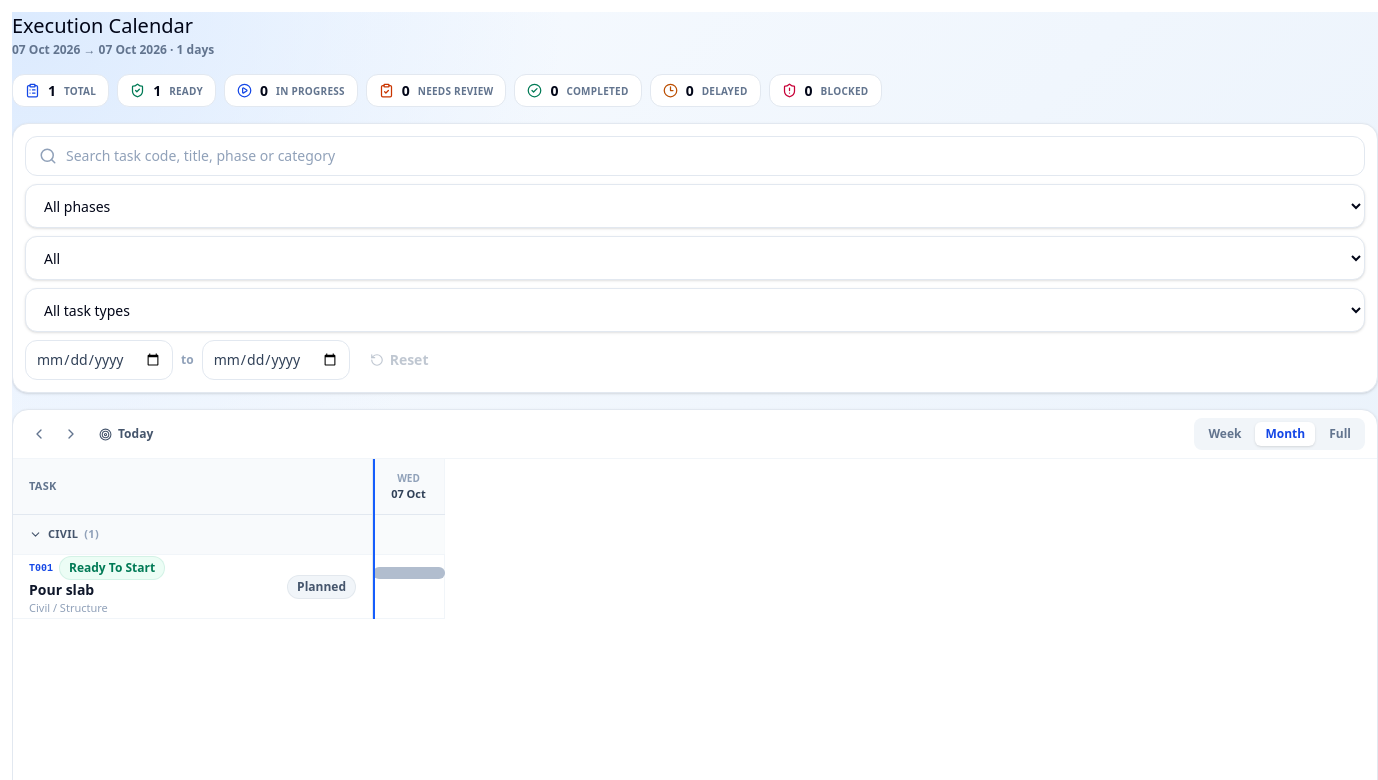
Test: ExecutionCalendarView › groups tasks by phase with a collapsible header shared by both panes
Expected: the text "Pour slab" is shown, [29,580,94,599]
Click the button "Civil (1)" at (63, 534), box [13,515,372,555]
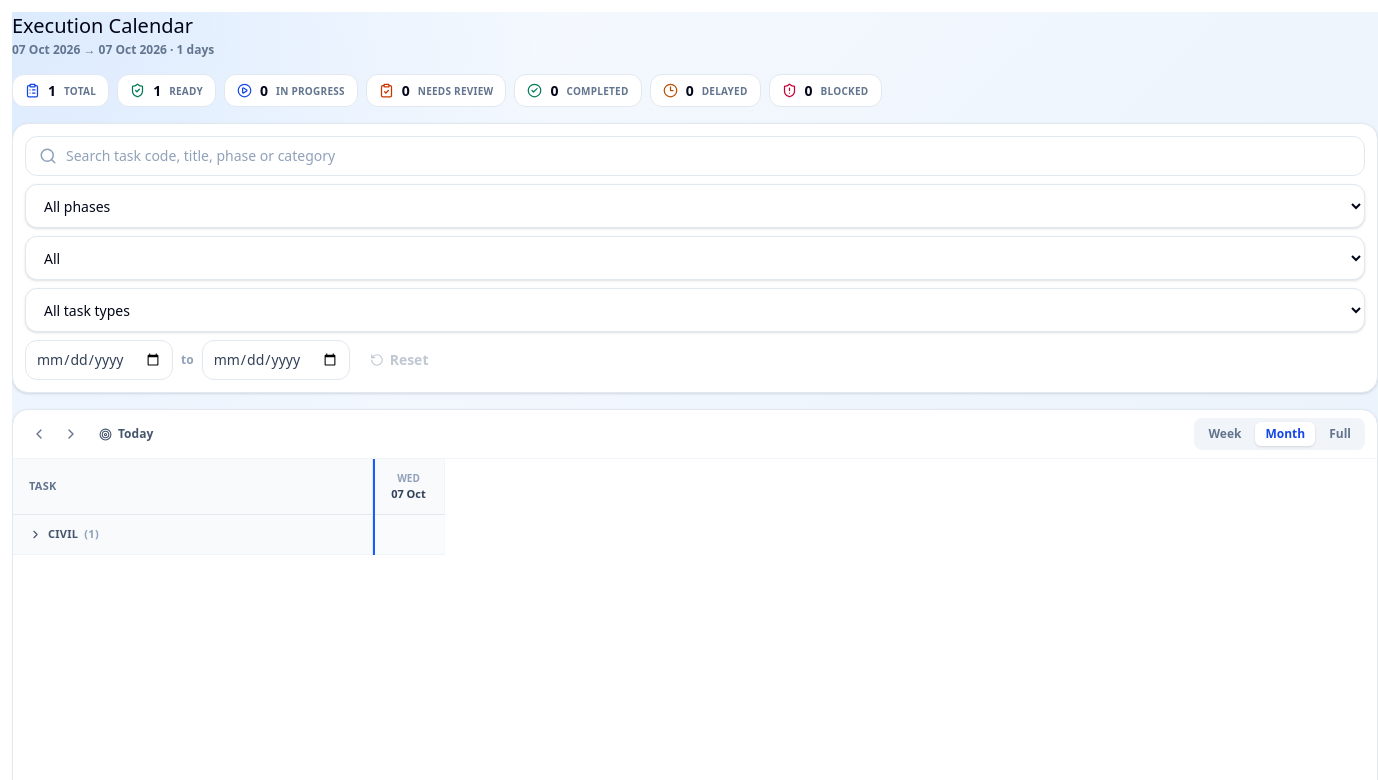
Expected: the button "Pour slab" is gone
Click the button "Civil (1)" at (63, 534), box [13,515,372,555]
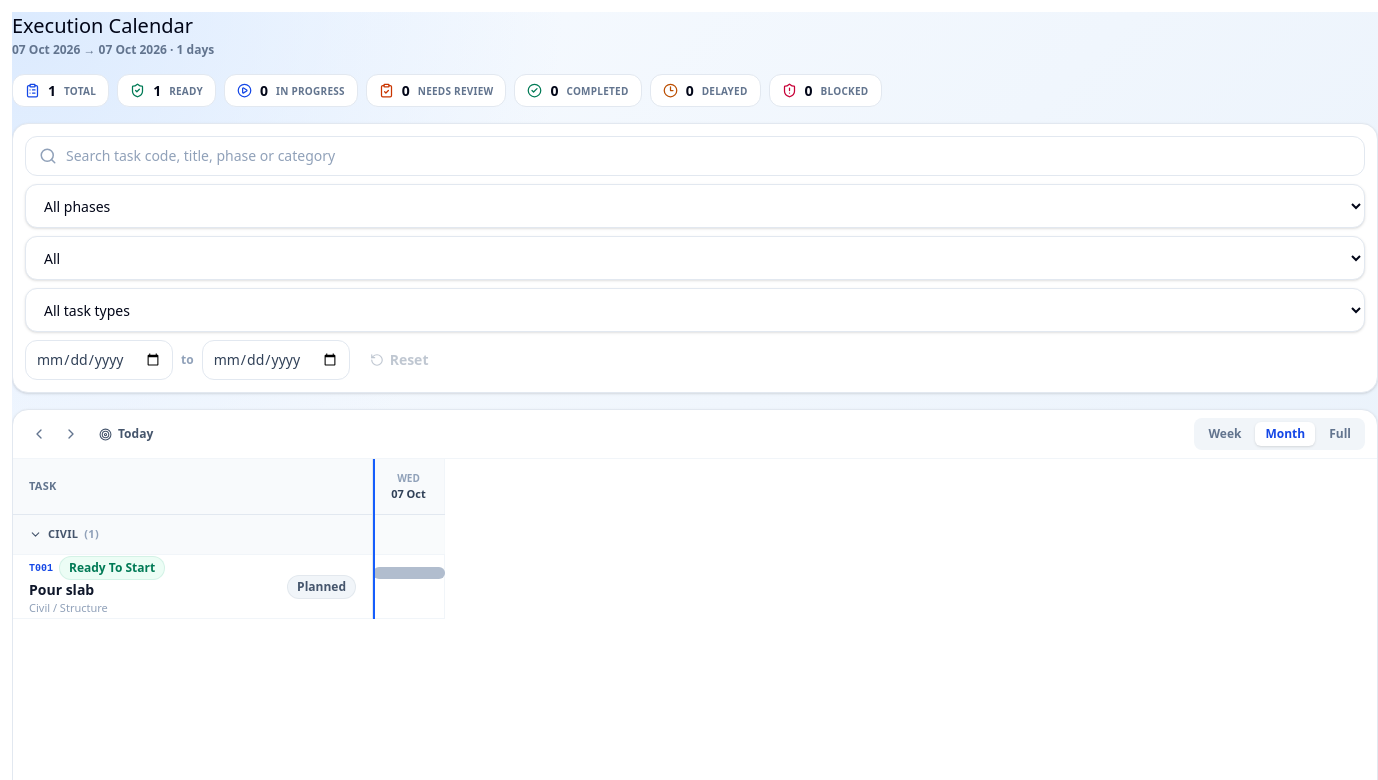
Expected: the text "Pour slab" is shown, [29,580,94,599]
